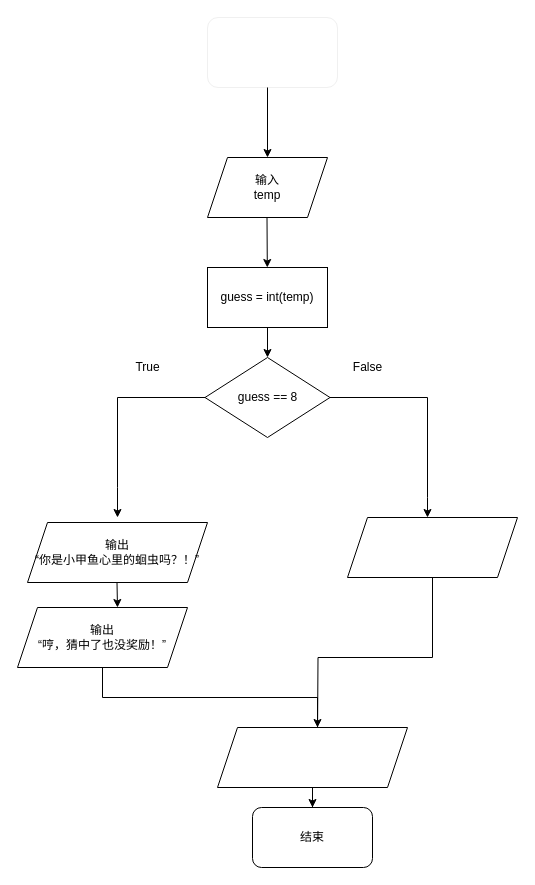
Image size: 535x885. Some labels were removed from this diagram. The shapes that lost their labels are listed below. From the top down, each one's centre as x and y in pixels, then its label:
At point 272,52: "开始".
At point 432,547: "输出 “猜错啦，小甲鱼心里想的是8！”".
At point 312,757: "输出 “游戏结束，不玩啦^-^”".
